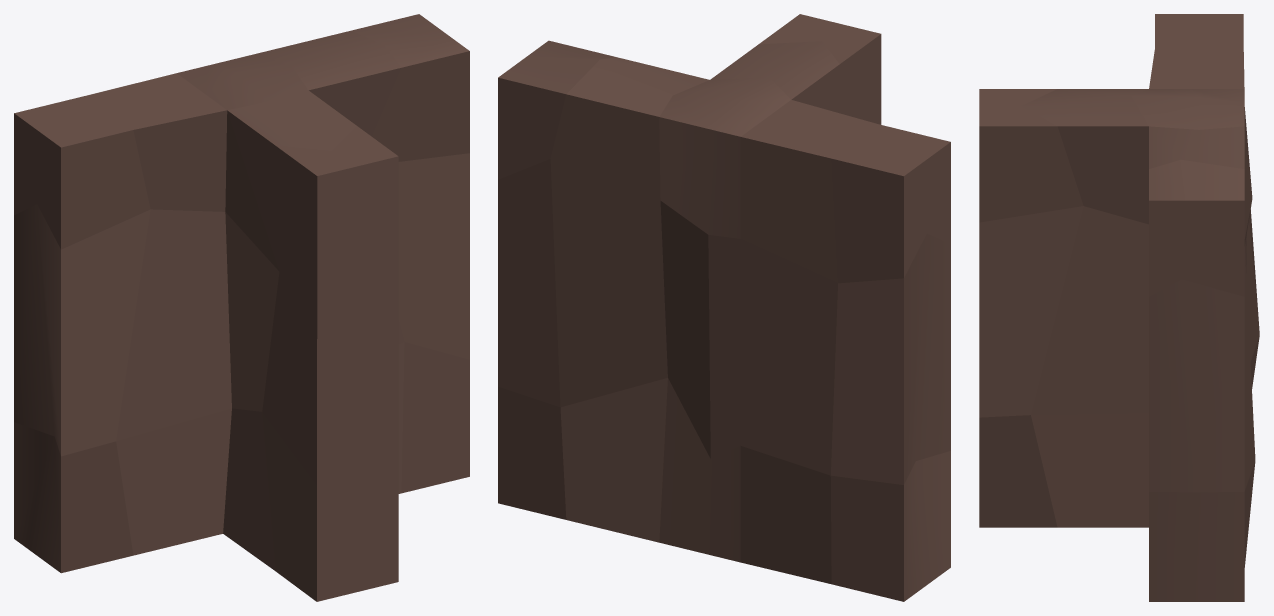
File: Cave_Wall_Corner_DoubleSided.fbx
3 views of the same model, side by side, from view 1: azimuth 30°, elevation 25°; view 2: azimuth 150°, elevation 25°; view 3: azimuth 270°, elevation 25° (orthographic). The views are drawn at different scales.
Visible parts, largest first — view 1: Cave_Wall_Corner_DoubleSided; view 2: Cave_Wall_Corner_DoubleSided; view 3: Cave_Wall_Corner_DoubleSided.
Boxes of the visible parts, box(x1,y1,x2,y2) form: Cave_Wall_Corner_DoubleSided: box(14, 14, 469, 601); Cave_Wall_Corner_DoubleSided: box(498, 14, 950, 601); Cave_Wall_Corner_DoubleSided: box(979, 14, 1259, 601).
Bounding box in the file's own units: 5.05 × 3.17 × 5.12.
